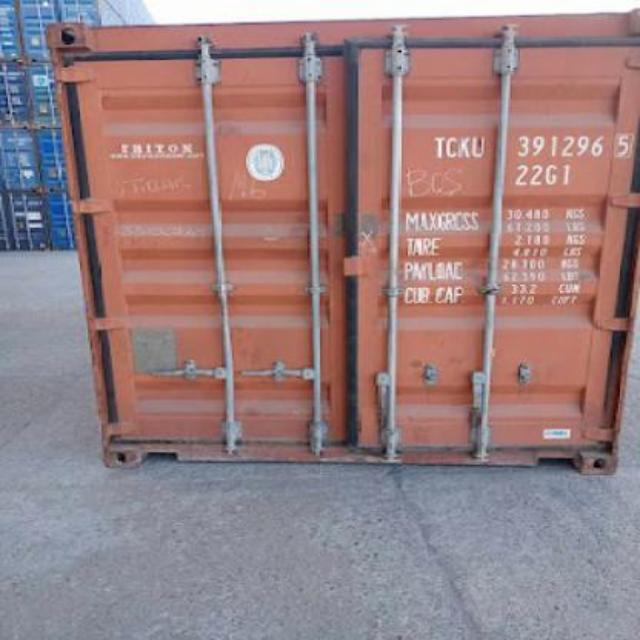1: (546, 128, 560, 154)
2: (558, 127, 576, 157)
3: (512, 130, 530, 158)
5: (616, 130, 634, 158)
6: (588, 130, 604, 160)
9: (528, 127, 546, 159), (576, 130, 590, 160)
C: (446, 134, 458, 160)
K: (456, 126, 472, 158)
T: (432, 130, 444, 162)
U: (470, 130, 486, 160)
